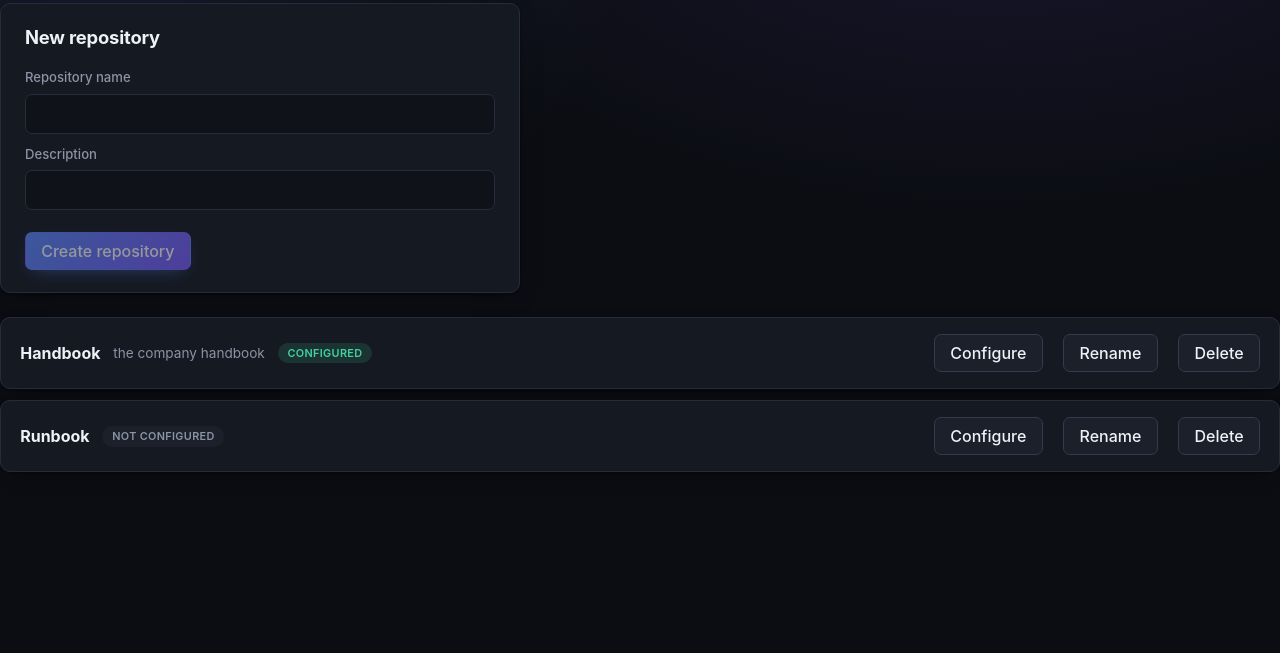
Test case: AdminRepositoriesPage › uses a free-text model input with datalist suggestions for the custom provider
Click the button "Configure" in the row of "Not configured": click(988, 436) [934, 417, 1043, 455]
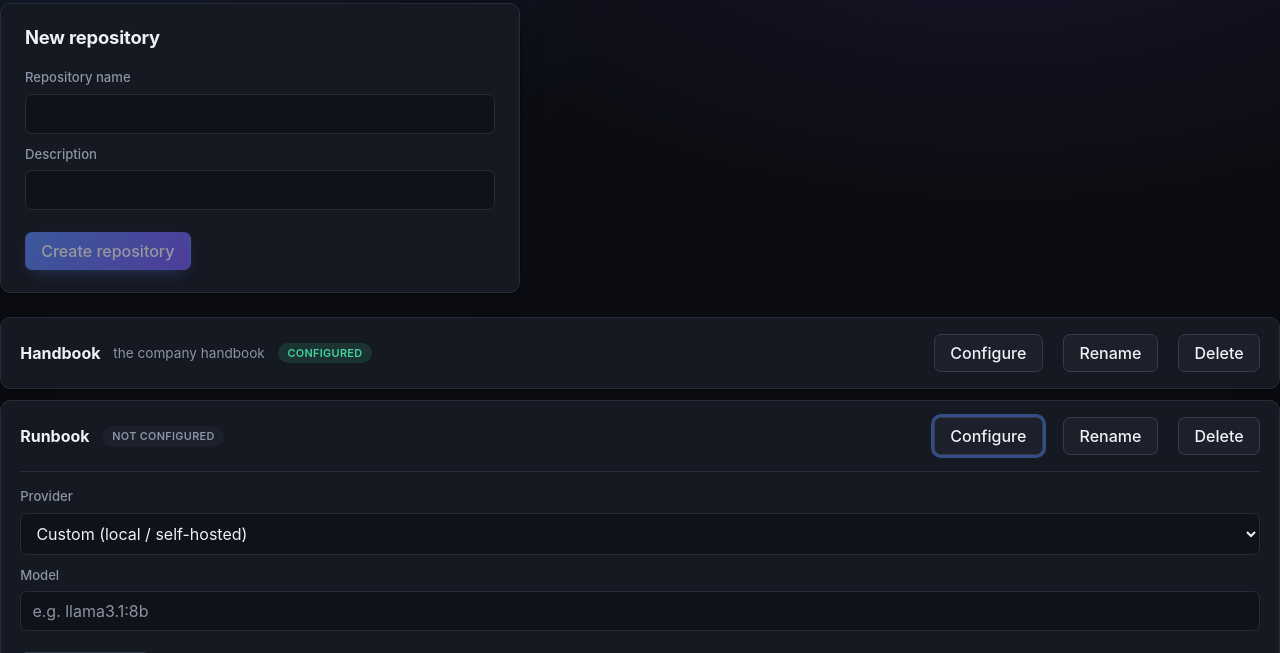
In the field labelled "Model": (640, 611) [20, 591, 1260, 631], type "llama3.1:8b"
(page scrolled)
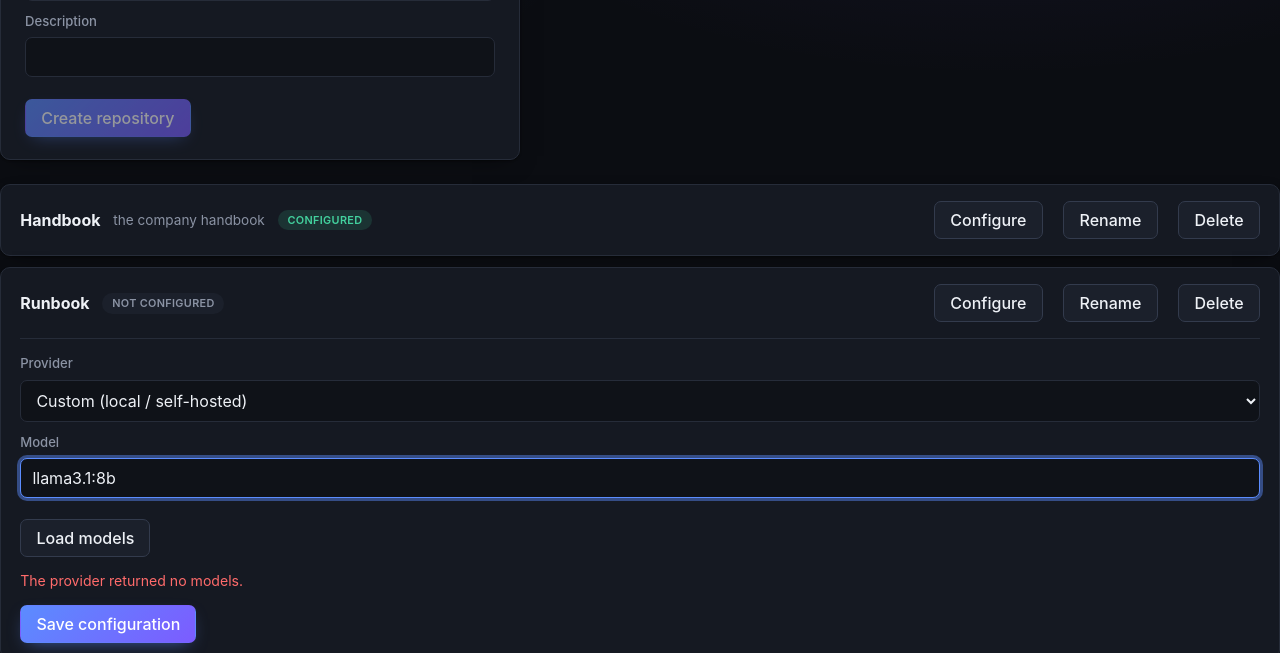
Click the button "Save configuration": click(108, 624) [20, 605, 196, 643]
(page scrolled)
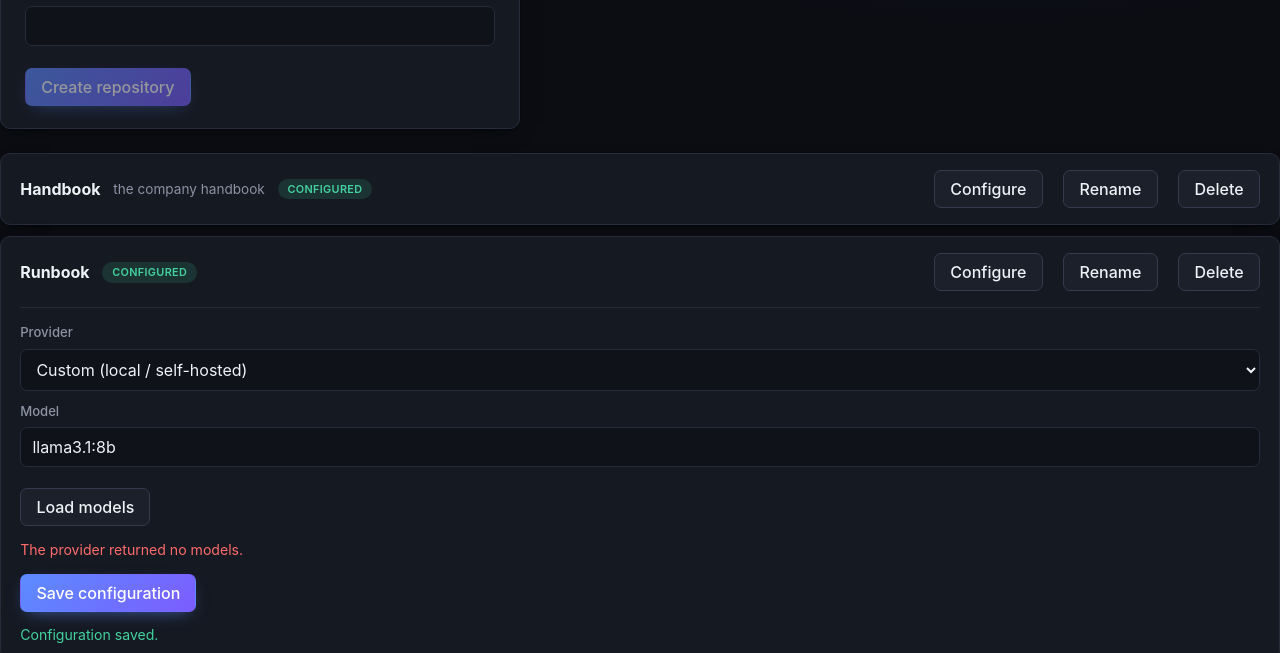
Result: the text "Configuration saved." is shown at [20, 626, 158, 643]
